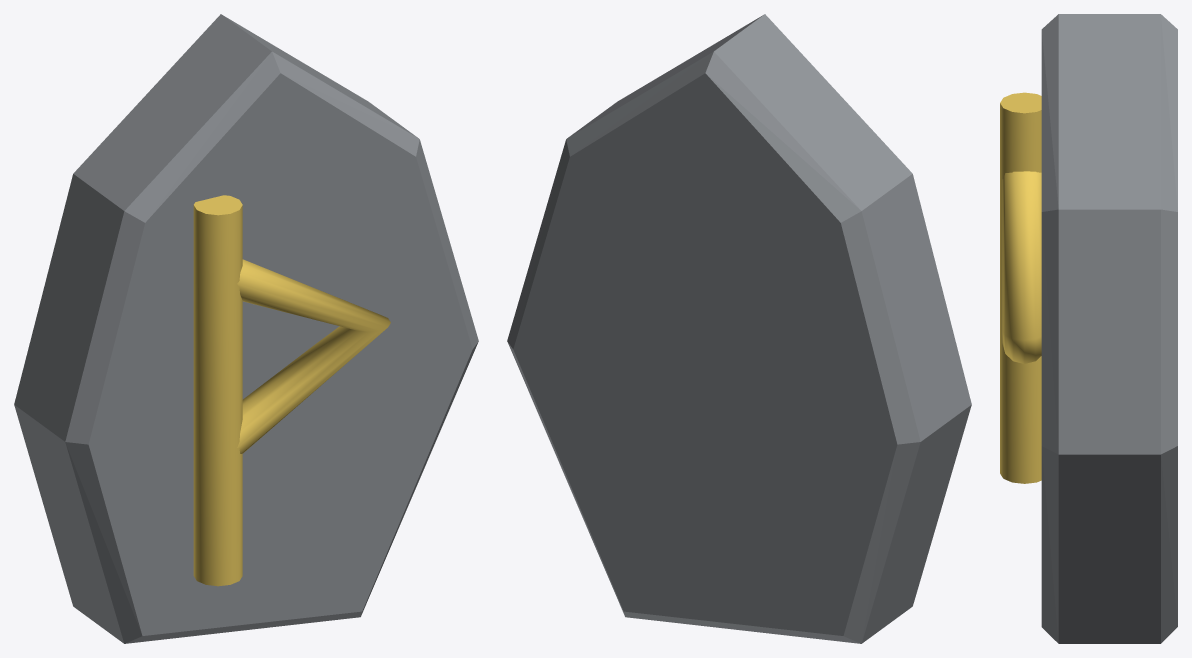
Rendered from pickup_thurisaz_HUD.glb.
3 views of the same model, side by side, from view 1: azimuth 30°, elevation 25°; view 2: azimuth 150°, elevation 25°; view 3: azimuth 270°, elevation 25° (orthographic).
Size of the model in its own units: 14 by 19 by 5.22.
